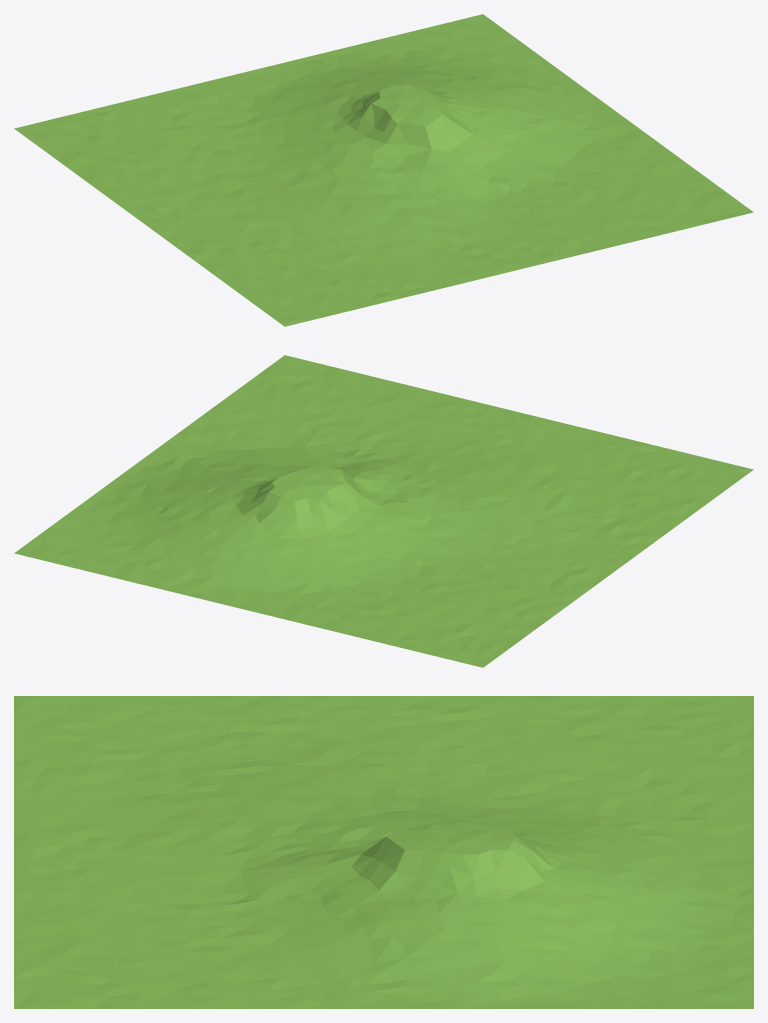
The model's file is MT_Terrain_L_c_15_LOD.fbx.
3 views of the same model, one above another, from view 1: azimuth 30°, elevation 25°; view 2: azimuth 150°, elevation 25°; view 3: azimuth 270°, elevation 25° (orthographic). The views are drawn at different scales.
Visible parts, largest first — view 1: MT_Terrain_L_c_15_LOD0; view 2: MT_Terrain_L_c_15_LOD0; view 3: MT_Terrain_L_c_15_LOD0.
Part boxes in pixels (<box>): MT_Terrain_L_c_15_LOD0: <box>14,14,753,326</box>; MT_Terrain_L_c_15_LOD0: <box>14,355,753,667</box>; MT_Terrain_L_c_15_LOD0: <box>14,696,753,1008</box>.
Size of what is drawn, in the model's own units: 10000 by 746 by 10000.
